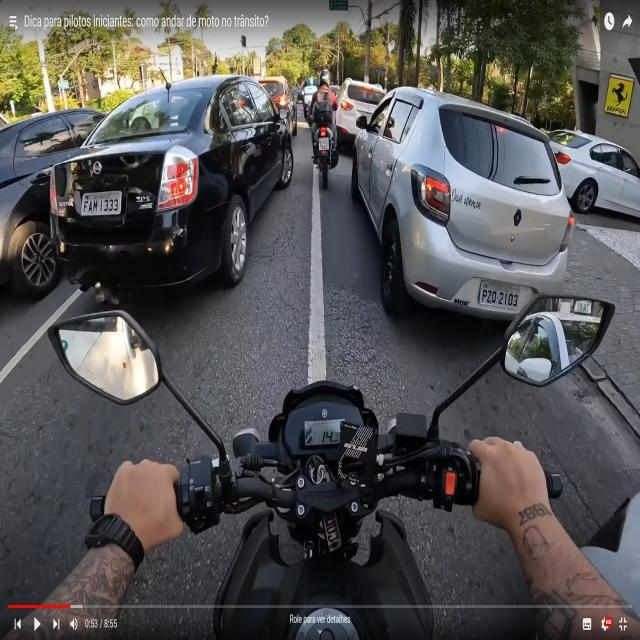placa_moto: (317, 132, 332, 155)
